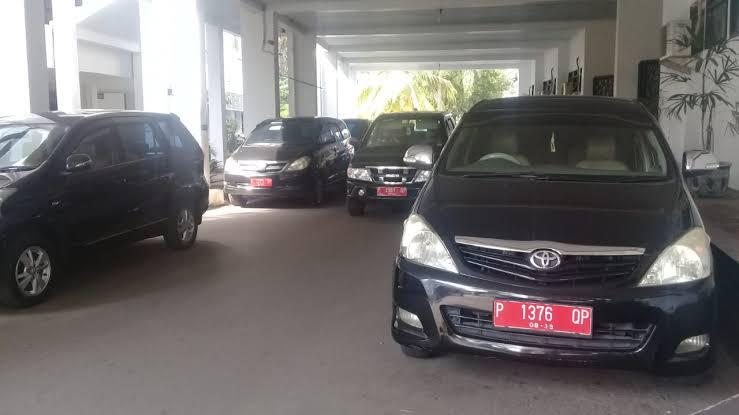plate: (492, 296, 593, 338)
